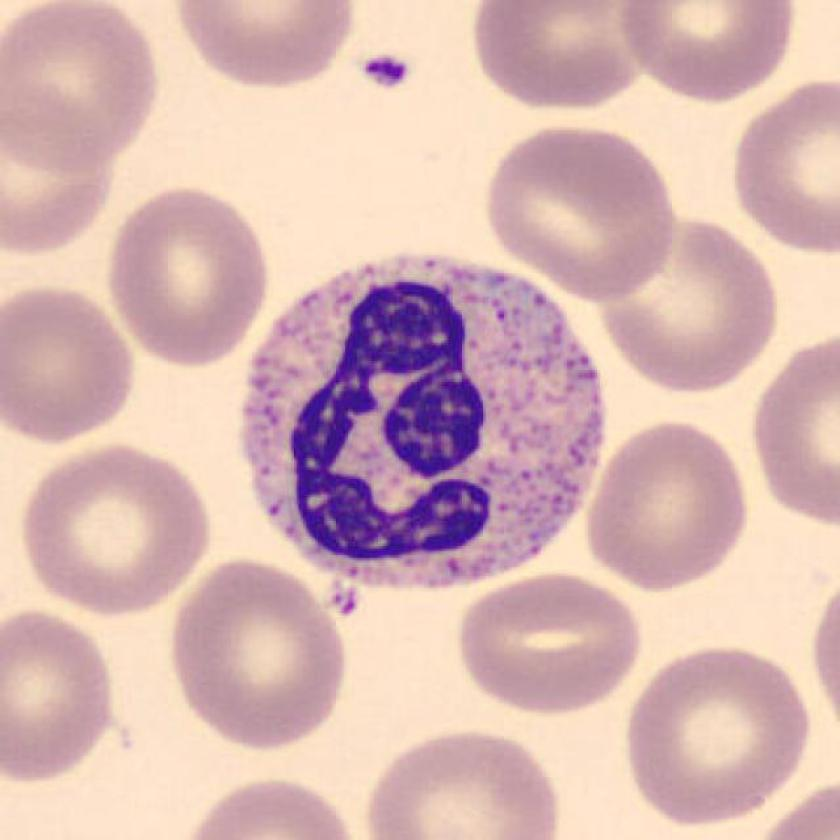neutrophil: (243, 257, 604, 586)
